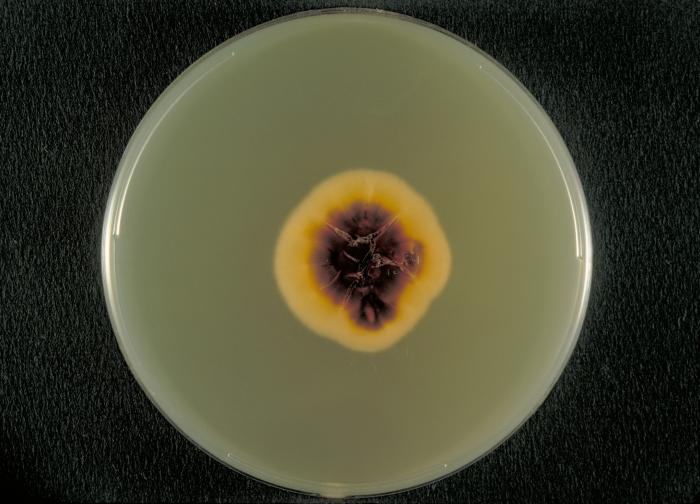Trichophyton: (294, 193, 422, 326)
